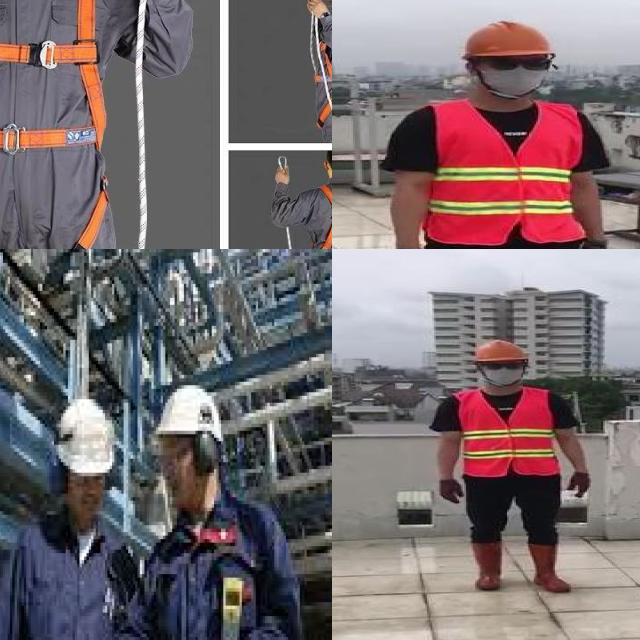Ear-protection: (191, 427, 216, 473), (50, 452, 70, 497), (100, 462, 116, 483)
Harness: (0, 0, 111, 249), (312, 3, 332, 128)
boots: (526, 540, 574, 592), (468, 538, 507, 591)
face_mask: (478, 52, 560, 94), (482, 360, 527, 387)
glasses: (478, 52, 560, 75), (480, 360, 530, 372)
hand_glove: (438, 475, 464, 505), (566, 473, 588, 499), (573, 240, 612, 249)
head_helmet: (47, 396, 114, 480), (144, 378, 223, 442), (460, 16, 550, 59), (471, 339, 529, 363)
person: (383, 13, 617, 249), (428, 336, 600, 594), (151, 392, 283, 640), (0, 403, 135, 640)
vest: (417, 102, 584, 244), (450, 388, 564, 478)
